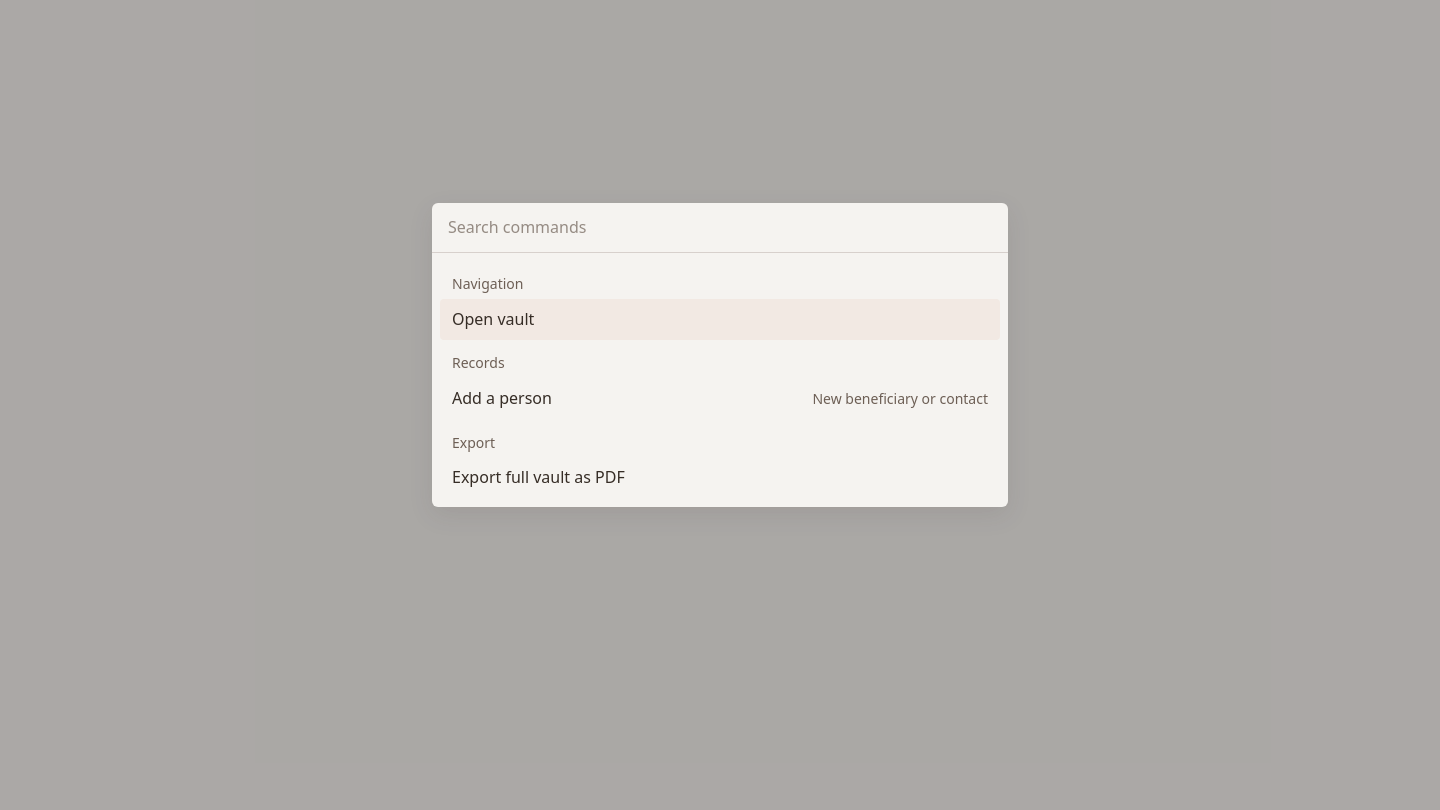
Test: UiCommand › renders empty-state copy when filter excludes everything
Type "zzzzzz-no-such-thing" into the dropdown with placeholder "Search commands" at {"x": 720, "y": 227}, box [448,214,992,240]
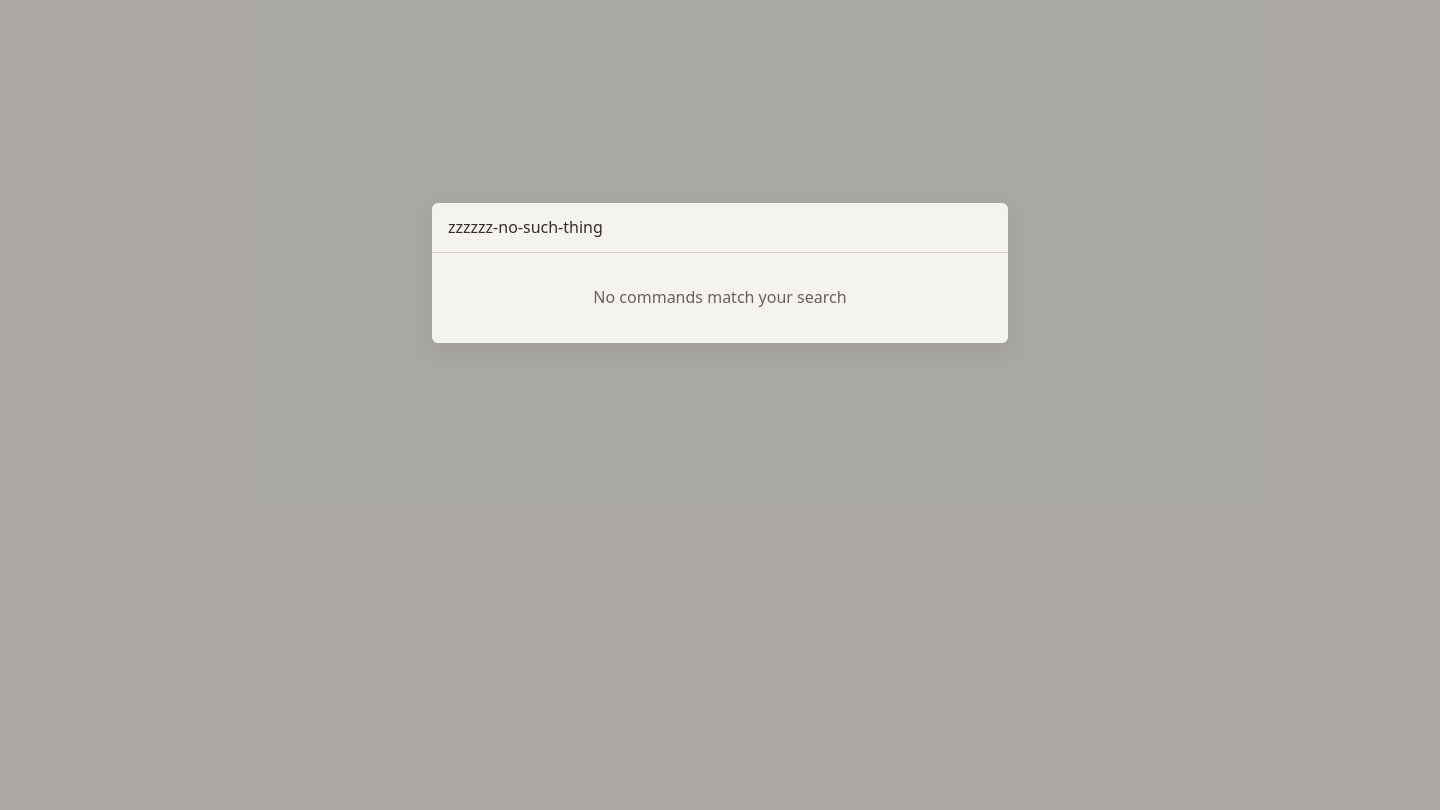
Expected: the text "No commands match your search" is shown, [593,286,847,308]
